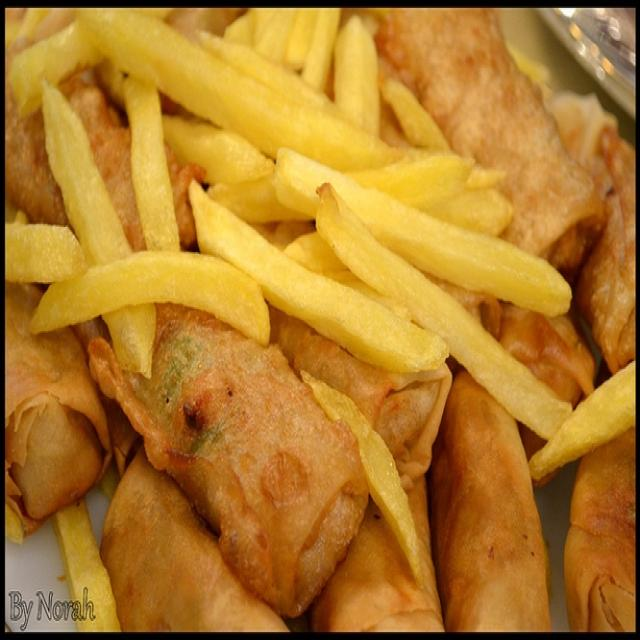炸货点心: (12, 25, 619, 615)
